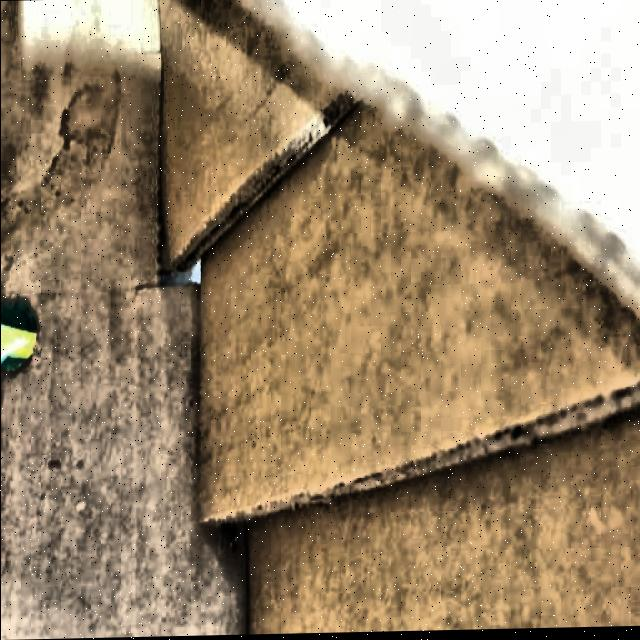cardboard: (155, 0, 640, 635)
